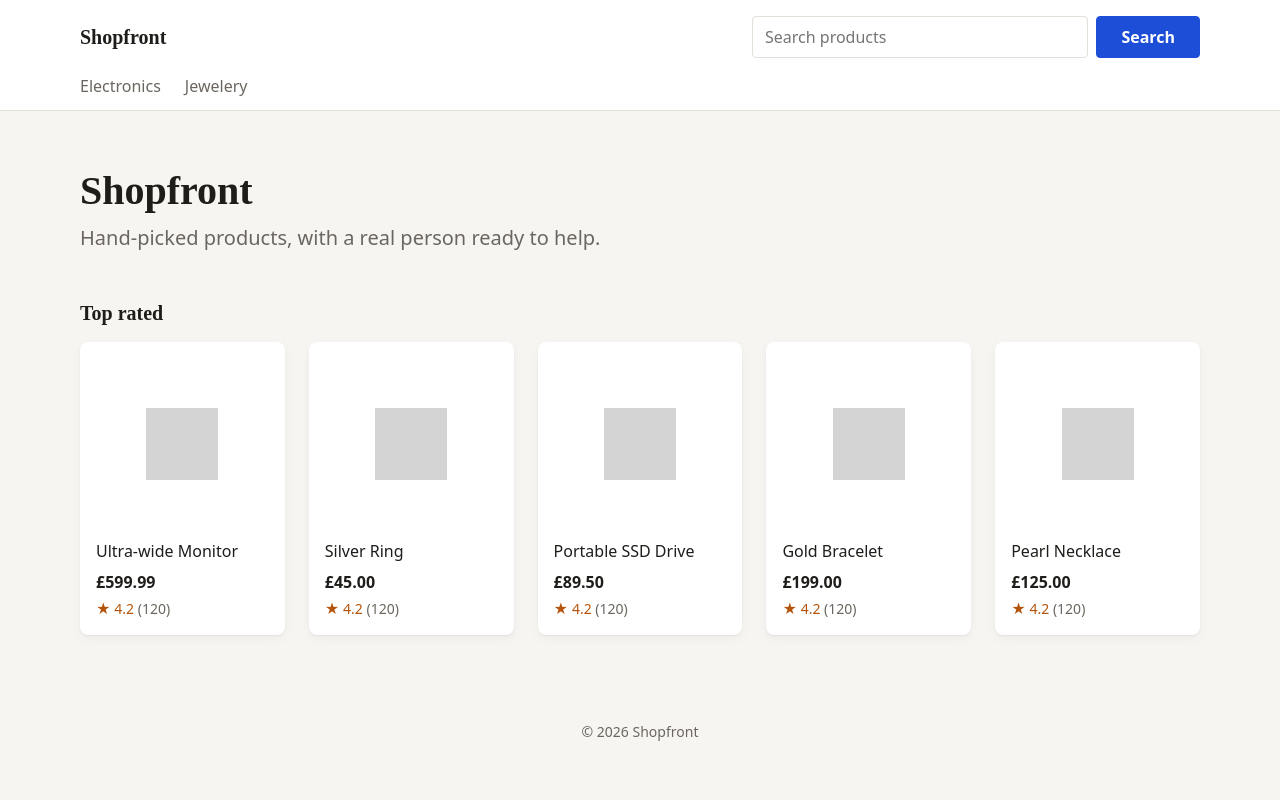
Test: Category page › GIVEN categories WHEN I click a category link THEN I see its top rated and additional products
Click the link "Electronics": [120, 86] box x1=80 y1=75 x2=161 y2=97
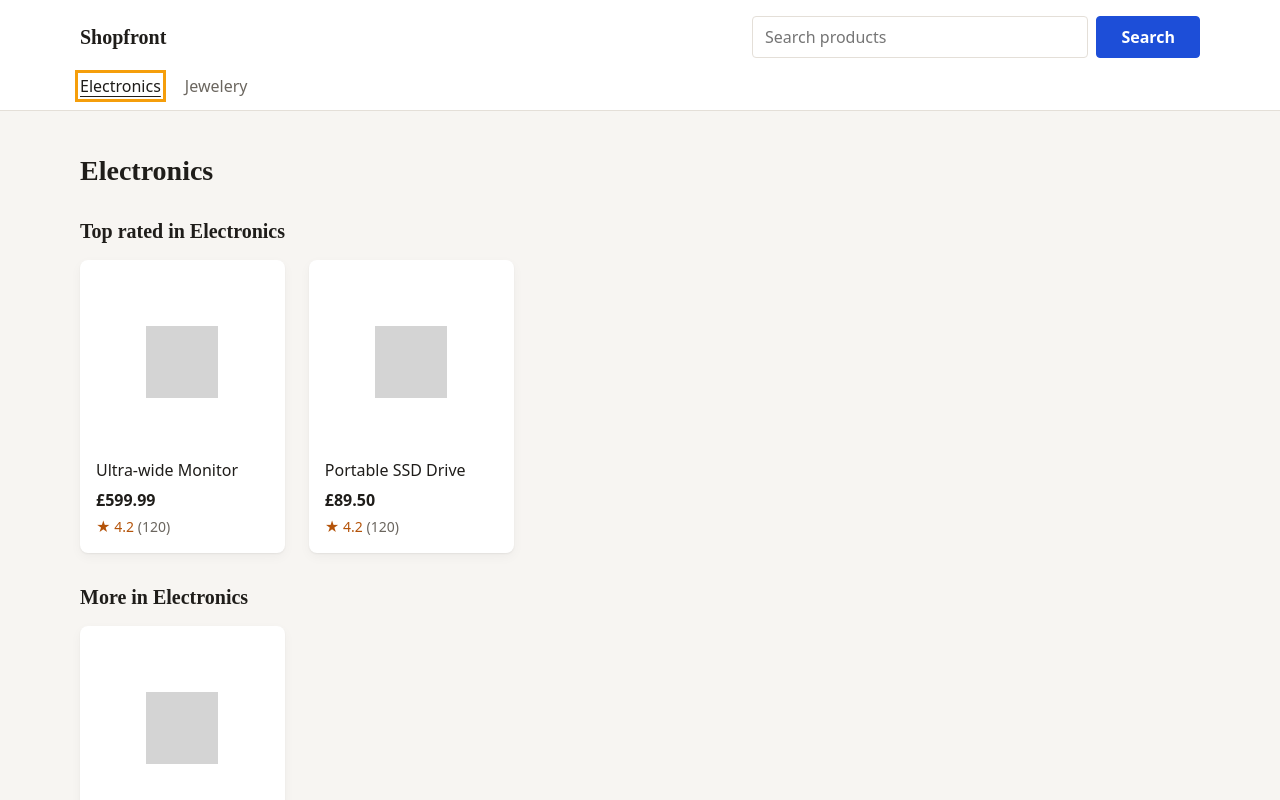
Result: the heading "Electronics" is shown at x1=80 y1=155 x2=213 y2=186
